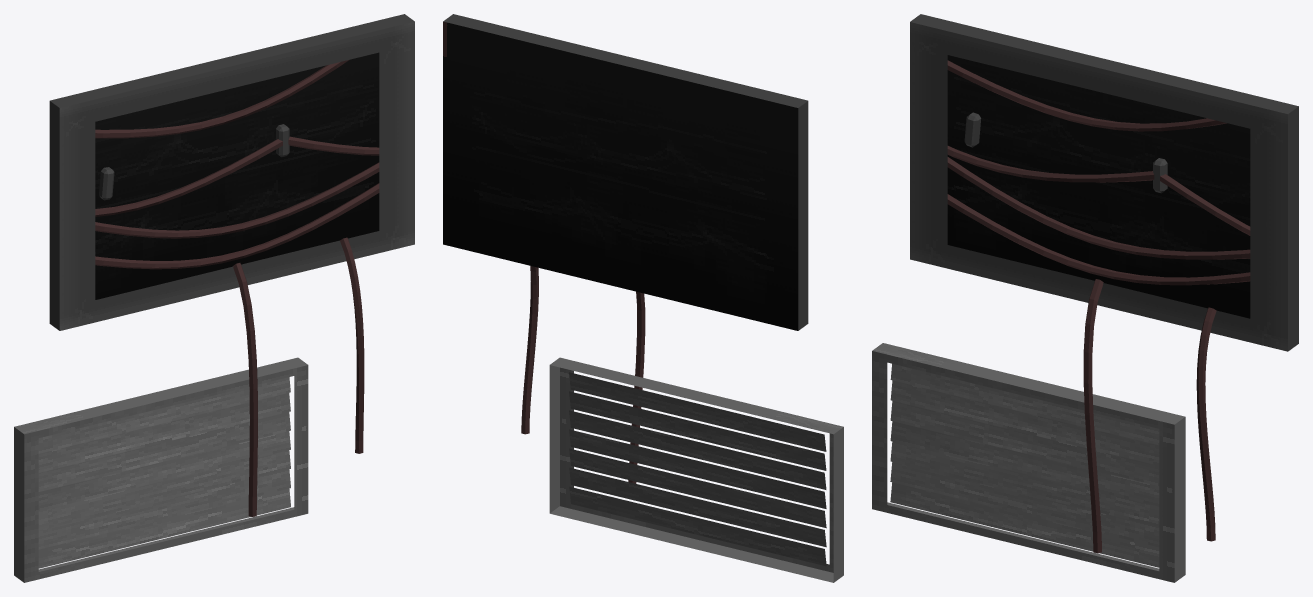
Rendered from vent_unstuck-MV2XMPAC.gltf.
The picture shows the model from 3 angles, left to right: view 1: azimuth 30°, elevation 25°; view 2: azimuth 150°, elevation 25°; view 3: azimuth 330°, elevation 25°; orthographic projection. The views are drawn at different scales.
Visible parts, largest first — view 1: frame (×2), blade (×6), cable (×5), unstuck_blade, cut_dangler; view 2: frame (×2), blade (×6), unstuck_blade, cut_dangler; view 3: frame (×2), blade (×6), cable (×5), unstuck_blade, cut_dangler.
Boxes of the visible parts, x1,y1,x2,y2 form: frame (×2): (14, 14, 414, 582); blade (×6): (38, 377, 290, 568); cable (×5): (95, 60, 379, 269); unstuck_blade: (38, 431, 290, 510); cut_dangler: (233, 237, 364, 516); frame (×2): (443, 14, 843, 582); blade (×6): (569, 372, 826, 566); unstuck_blade: (569, 429, 826, 508); cut_dangler: (521, 266, 645, 483); frame (×2): (872, 14, 1298, 582); blade (×6): (890, 363, 1159, 567); cable (×5): (947, 60, 1250, 285); unstuck_blade: (890, 421, 1159, 506); cut_dangler: (1083, 279, 1216, 553).
Bounding box in the file's own units: 0.6875 × 0.7839 × 0.076.
Materials: 2 (2 with a texture image).
